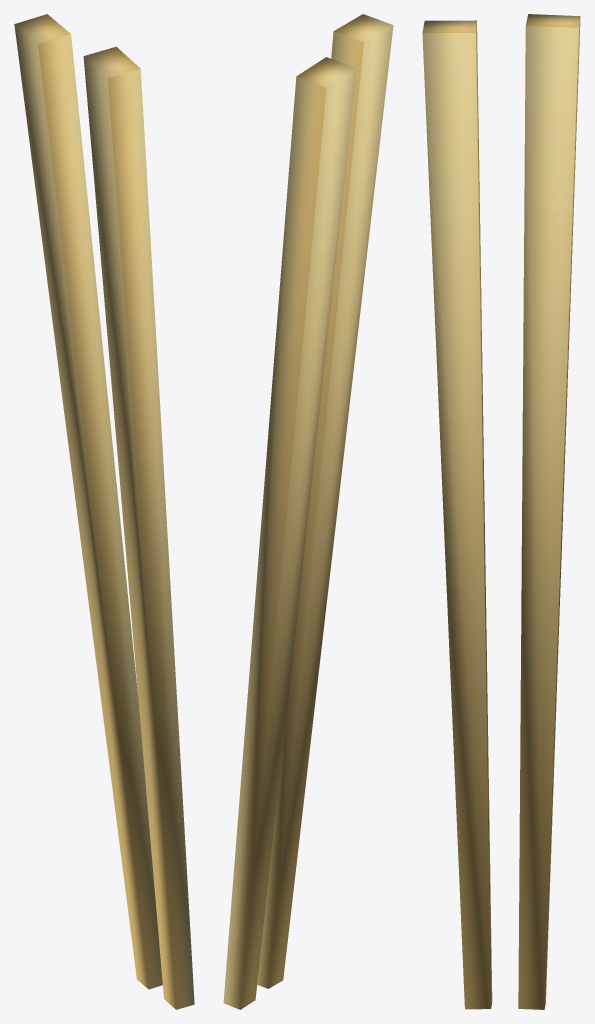
The model's file is H_Chopsticks.fbx.
3 renders of one model, left to right at view 1: azimuth 30°, elevation 25°; view 2: azimuth 150°, elevation 25°; view 3: azimuth 270°, elevation 25°, orthographic. The views are drawn at different scales.
Parts seen in each view (by area): view 1: Chopsticks; view 2: Chopsticks; view 3: Chopsticks.
Boxes of the visible parts, left/top/right/bottom form: Chopsticks: left=14, top=14, right=194, bottom=1009; Chopsticks: left=223, top=14, right=393, bottom=1009; Chopsticks: left=422, top=14, right=580, bottom=1009.
Size of the model in its own units: 6.58 by 48.66 by 7.39.
